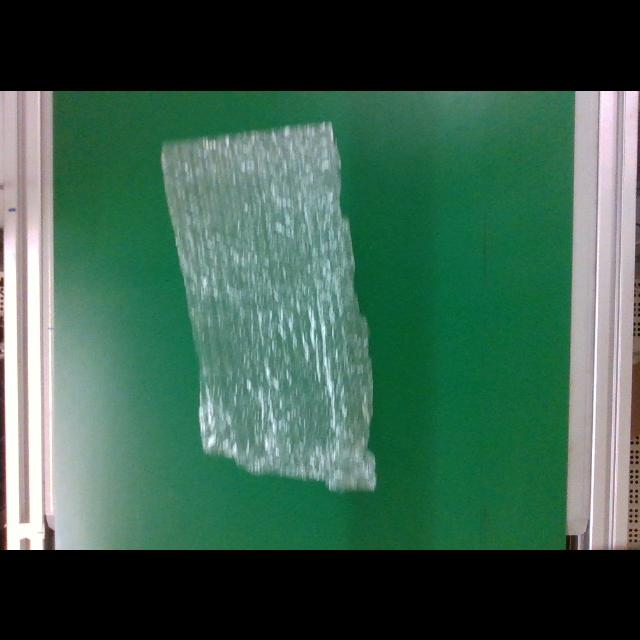scrap_plastic: (156, 120, 377, 492)
